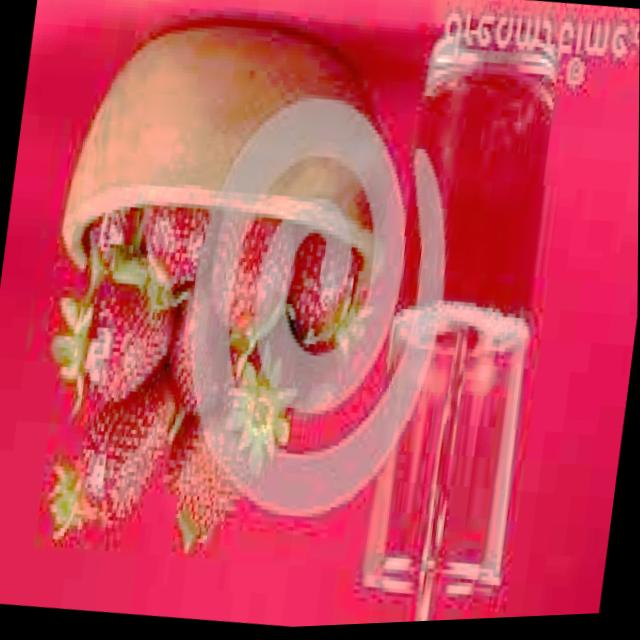drink: (354, 21, 570, 622)
